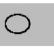no answer: (3, 12, 34, 37)
